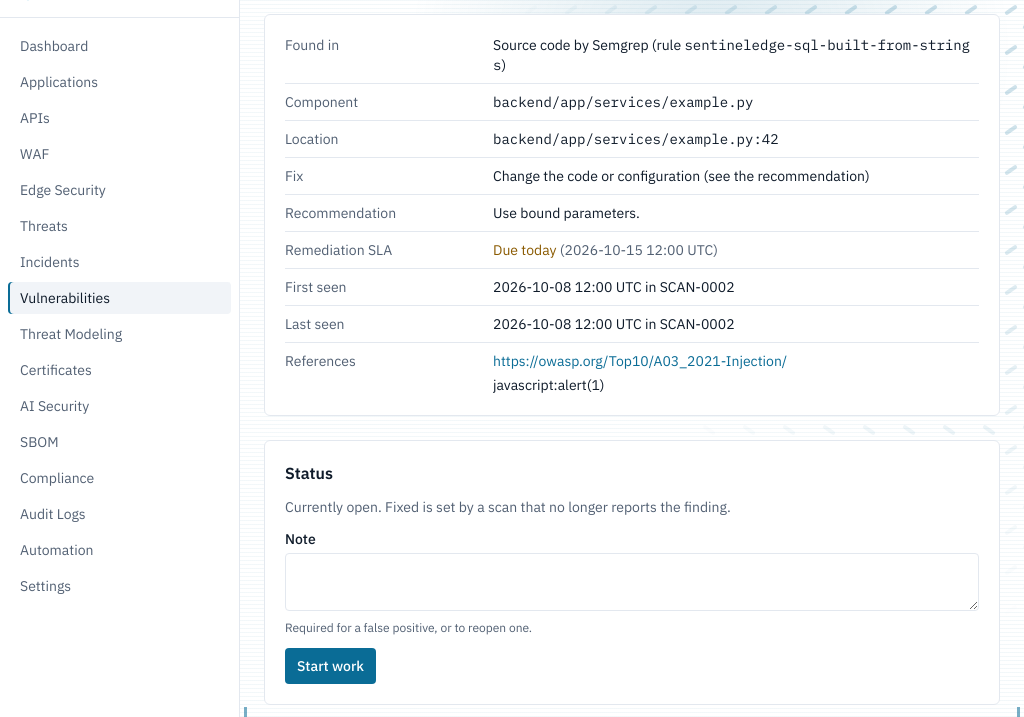
Test: Finding detail › a stale version asks to reload
(page scrolled)
Click the button "Start work": (330, 666) 285,648 -> 376,684
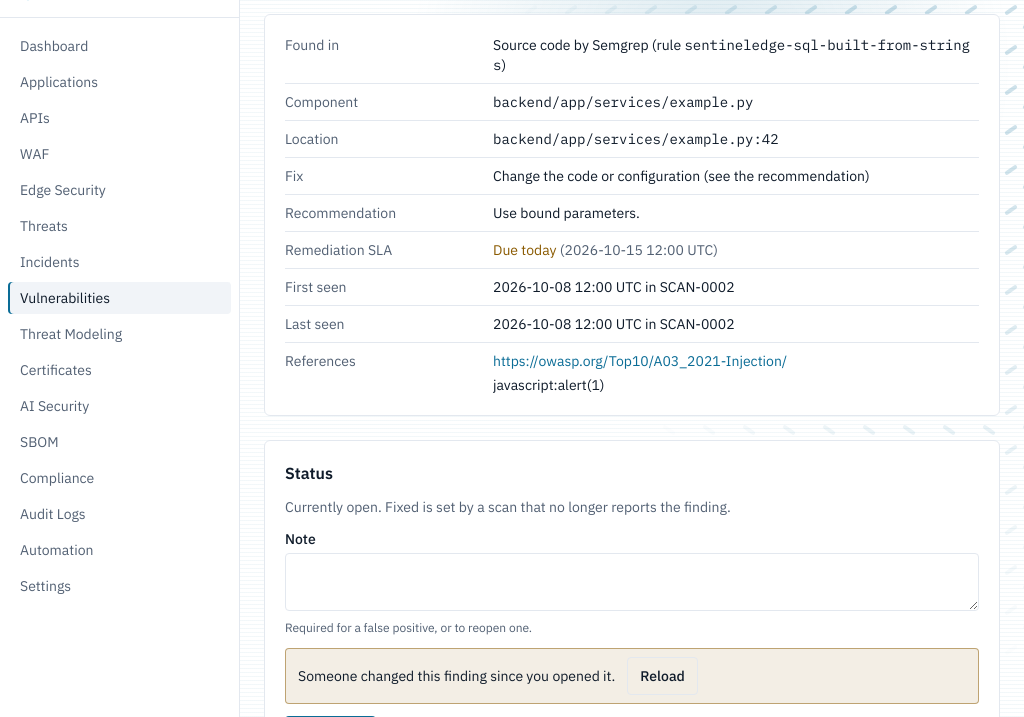
Expected: the text "Someone changed this finding since you opened it. Reload" is shown, 285,648 -> 979,704
Expected: the button "Reload" is shown, 627,657 -> 698,695
